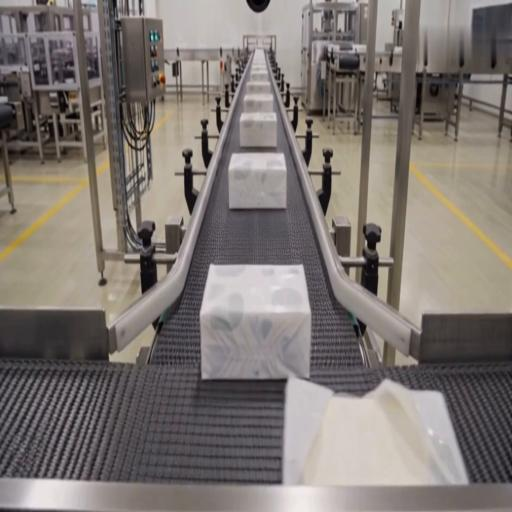defective: (281, 372, 466, 487), (200, 263, 310, 381), (279, 374, 331, 486)
good: (228, 152, 287, 211), (239, 112, 279, 150), (242, 92, 274, 113), (246, 68, 271, 88), (249, 54, 270, 72)
